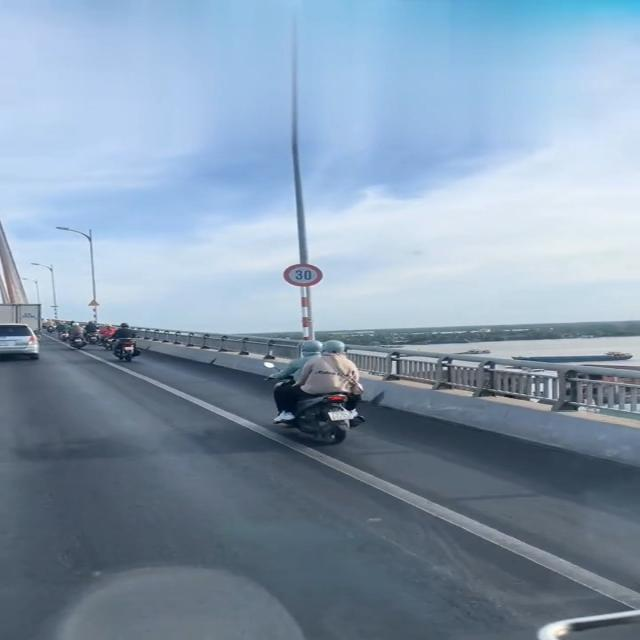127-toc-do-toi-da-30: (282, 264, 323, 286)
